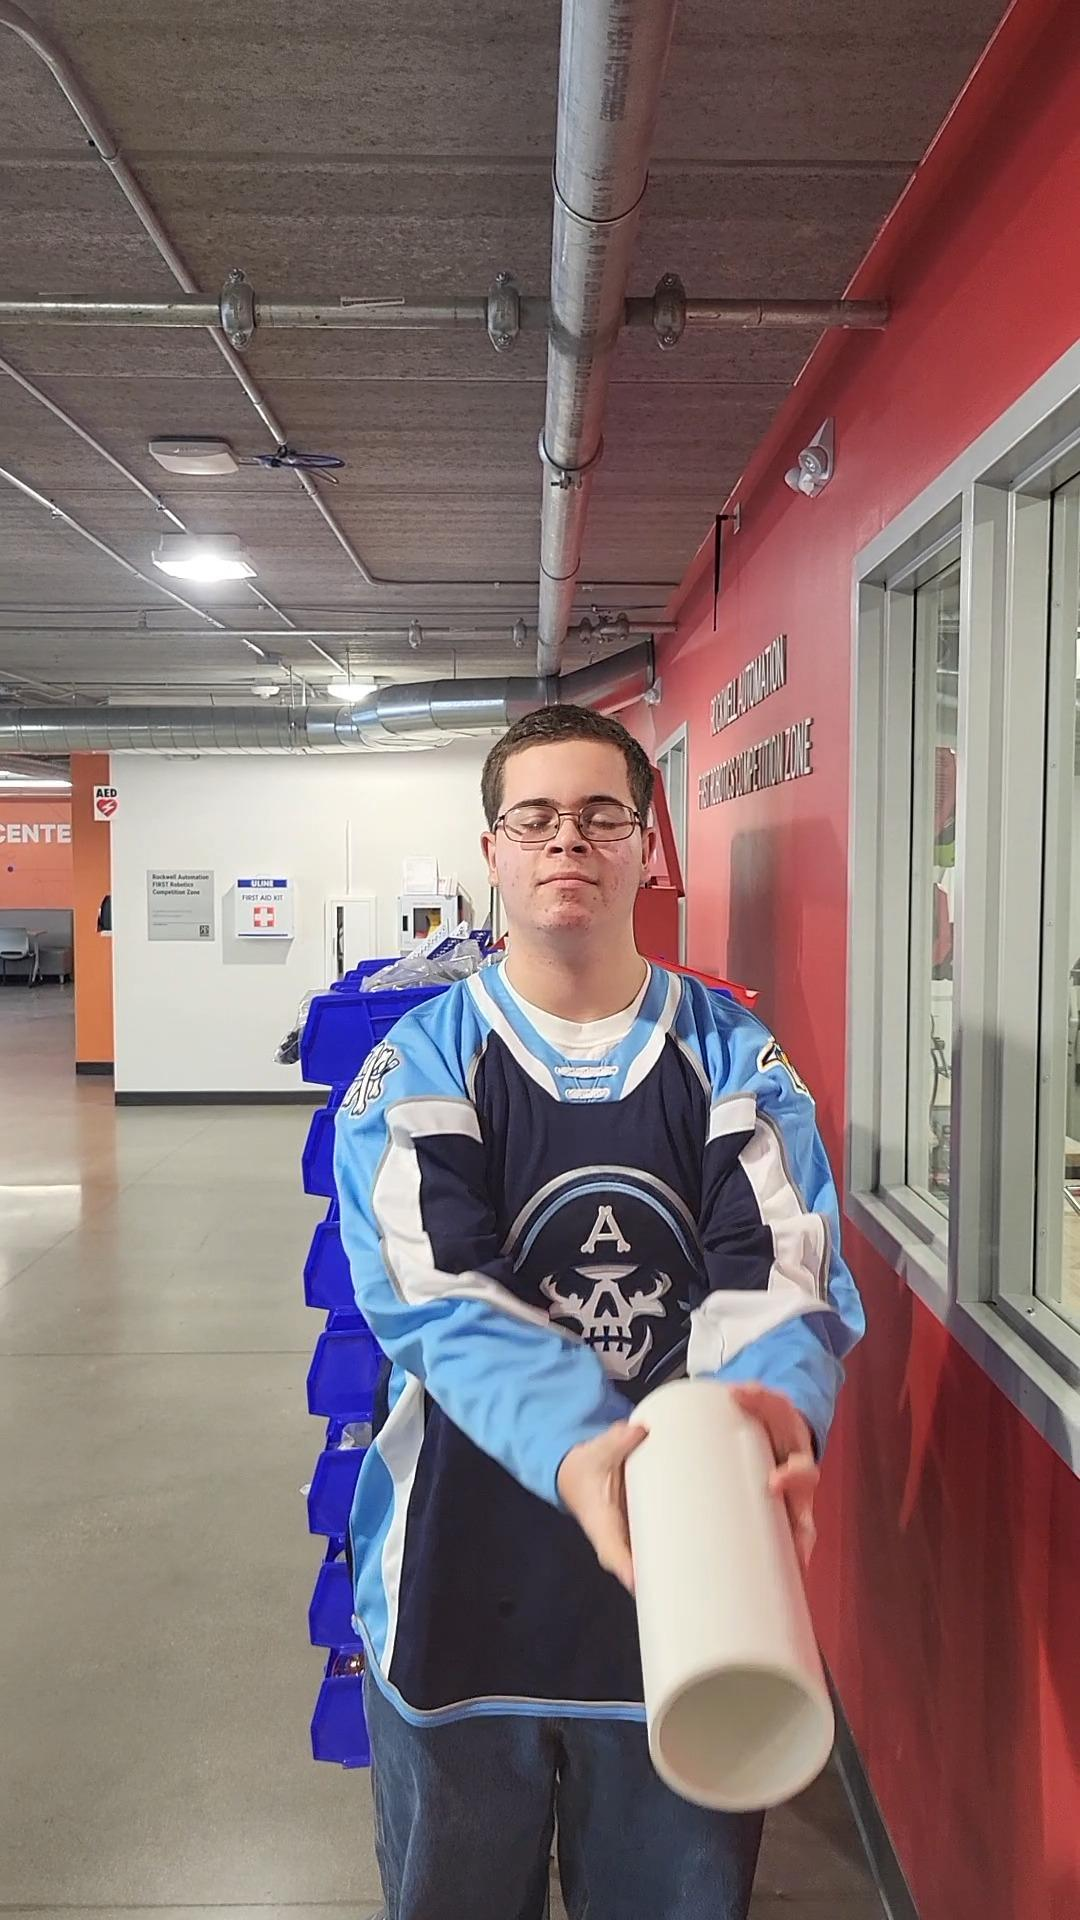coral: (624, 1381, 840, 1813)
